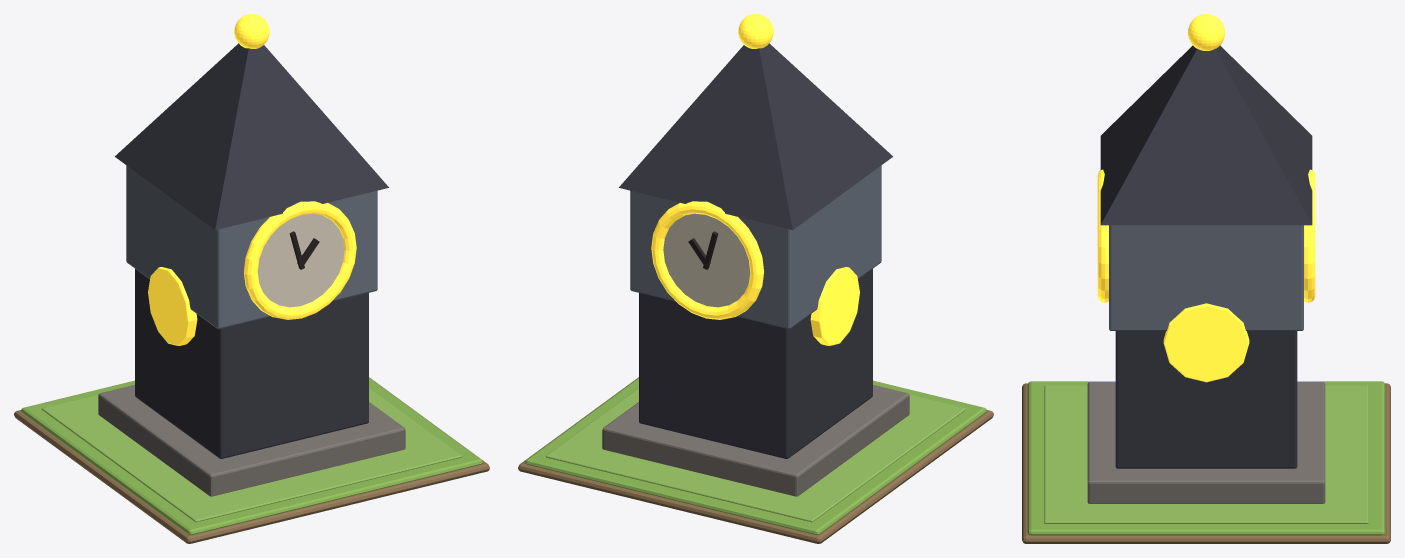
The model's file is clock_tower_lv8.glb.
3 views of the same model, side by side, from view 1: azimuth 30°, elevation 25°; view 2: azimuth 150°, elevation 25°; view 3: azimuth 270°, elevation 25° (orthographic). The views are drawn at different scales.
Visible parts, largest first — view 1: CT_LowerShaft, CT_SpireRoof, CT_UpperHousing, Base_Inner, CT_Plinth, Base_Grass, ClockDial_-1, Base_Dirt, ClockBezel_-1, CT_SideGear_-1, CT_ApexOrb; view 2: CT_LowerShaft, CT_SpireRoof, CT_UpperHousing, Base_Inner, CT_Plinth, Base_Grass, ClockDial_1, Base_Dirt, ClockBezel_1, CT_SideGear_-1, CT_ApexOrb; view 3: CT_SpireRoof, CT_LowerShaft, CT_UpperHousing, Base_Inner, CT_Plinth, Base_Grass, CT_SideGear_1, Base_Dirt, ClockBezel_1, ClockBezel_-1, CT_ApexOrb.
Boxes of the visible parts, left/top/right/bottom form: CT_LowerShaft: left=135, top=269, right=368, bottom=458; CT_SpireRoof: left=115, top=43, right=388, bottom=230; CT_UpperHousing: left=126, top=165, right=377, bottom=329; Base_Inner: left=42, top=388, right=461, bottom=522; CT_Plinth: left=98, top=385, right=405, bottom=496; Base_Grass: left=21, top=377, right=482, bottom=534; ClockDial_-1: left=257, top=213, right=344, bottom=307; Base_Dirt: left=14, top=377, right=489, bottom=543; ClockBezel_-1: left=244, top=201, right=356, bottom=319; CT_SideGear_-1: left=148, top=267, right=197, bottom=345; CT_ApexOrb: left=234, top=14, right=269, bottom=48; CT_LowerShaft: left=639, top=269, right=872, bottom=458; CT_SpireRoof: left=619, top=43, right=892, bottom=230; CT_UpperHousing: left=630, top=165, right=881, bottom=329; Base_Inner: left=546, top=388, right=965, bottom=522; CT_Plinth: left=602, top=385, right=909, bottom=496; Base_Grass: left=525, top=377, right=986, bottom=534; ClockDial_1: left=663, top=213, right=750, bottom=307; Base_Dirt: left=518, top=377, right=993, bottom=543; ClockBezel_1: left=651, top=201, right=763, bottom=319; CT_SideGear_-1: left=810, top=267, right=859, bottom=345; CT_ApexOrb: left=738, top=14, right=773, bottom=48; CT_SpireRoof: left=1100, top=45, right=1312, bottom=225; CT_LowerShaft: left=1115, top=331, right=1297, bottom=468; CT_UpperHousing: left=1109, top=225, right=1303, bottom=330; Base_Inner: left=1044, top=385, right=1368, bottom=523; CT_Plinth: left=1087, top=382, right=1325, bottom=503; Base_Grass: left=1027, top=381, right=1385, bottom=535; CT_SideGear_1: left=1163, top=303, right=1249, bottom=382; Base_Dirt: left=1022, top=383, right=1390, bottom=543; ClockBezel_1: left=1304, top=169, right=1315, bottom=302; ClockBezel_-1: left=1097, top=169, right=1108, bottom=302; CT_ApexOrb: left=1187, top=14, right=1225, bottom=50.
Size of the model in its own units: 2.76 by 3.73 by 2.76.
